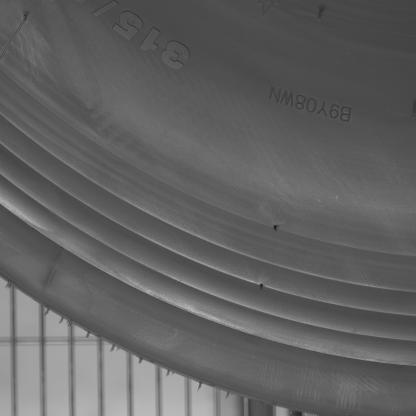ocr: (268, 84, 352, 124)
